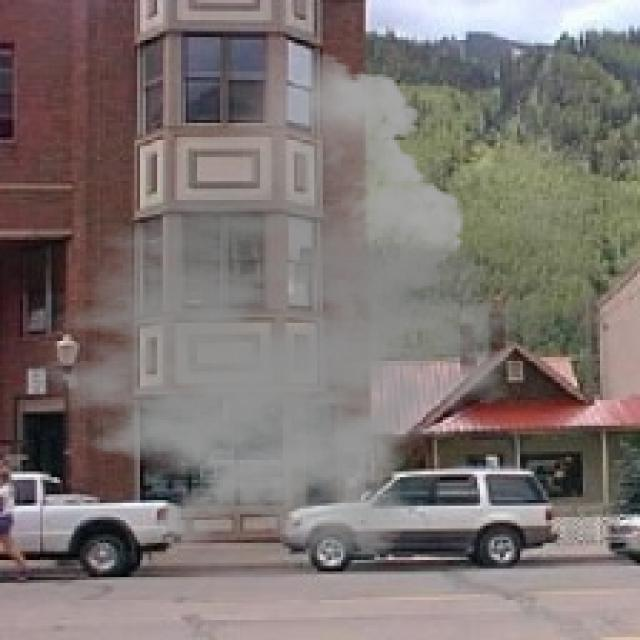Smoke: (2, 46, 532, 566)
